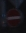No entry: (5, 6, 21, 28)
